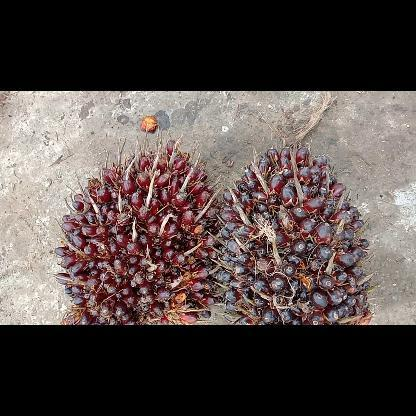Kurang masak: (218, 144, 374, 324)
TBS masak: (54, 140, 216, 324)
